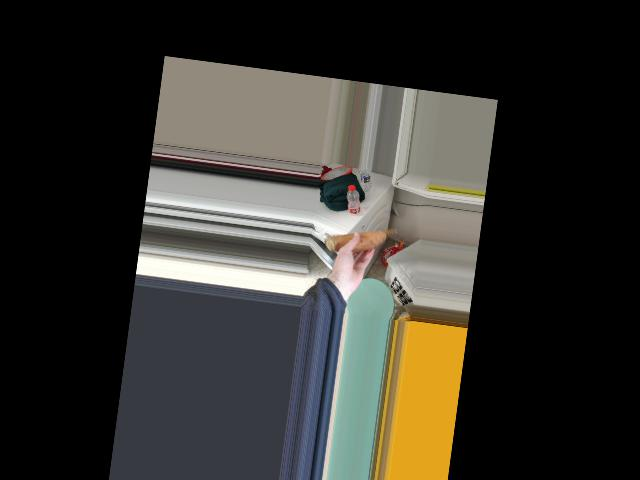sweet_potato: (327, 218, 395, 261)
